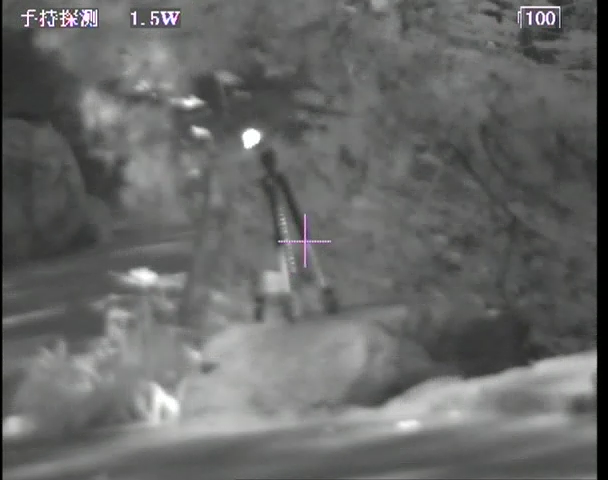my: (240, 125, 262, 150)
